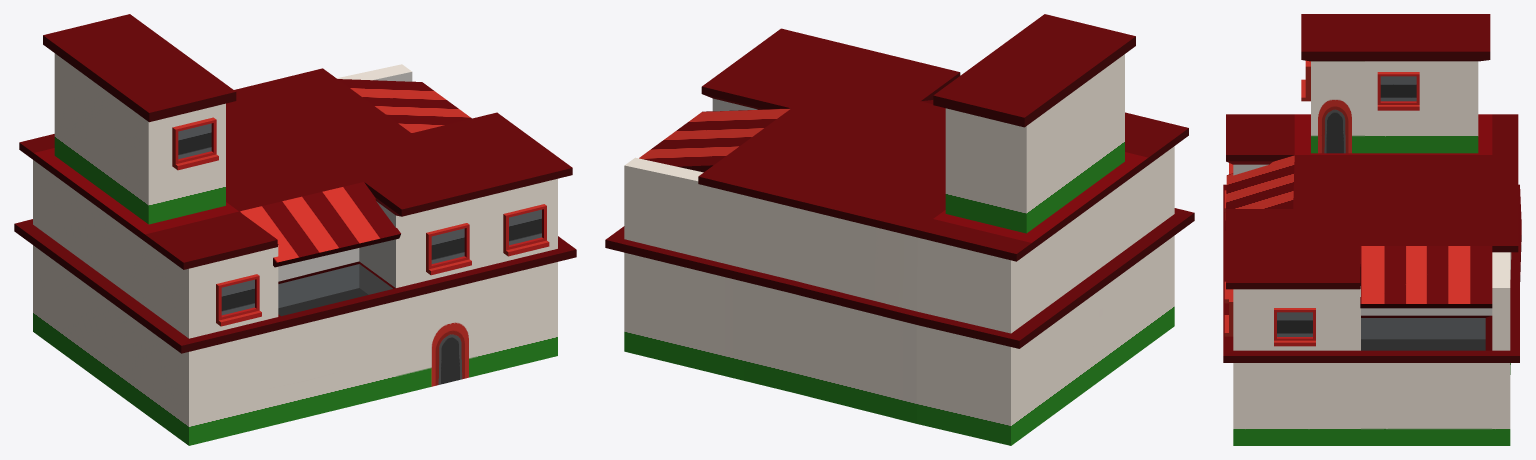
File: Villa.fbx
3 views of the same model, side by side, from view 1: azimuth 30°, elevation 25°; view 2: azimuth 150°, elevation 25°; view 3: azimuth 270°, elevation 25° (orthographic). The views are drawn at different scales.
Visible parts, largest first — view 1: Villa; view 2: Villa; view 3: Villa.
Boxes of the visible parts, x1,y1,x2,y2 form: Villa: [14, 14, 576, 445]; Villa: [605, 14, 1194, 445]; Villa: [1223, 14, 1521, 445].
Size of the model in its own units: 4.86 by 3.59 by 3.58.
